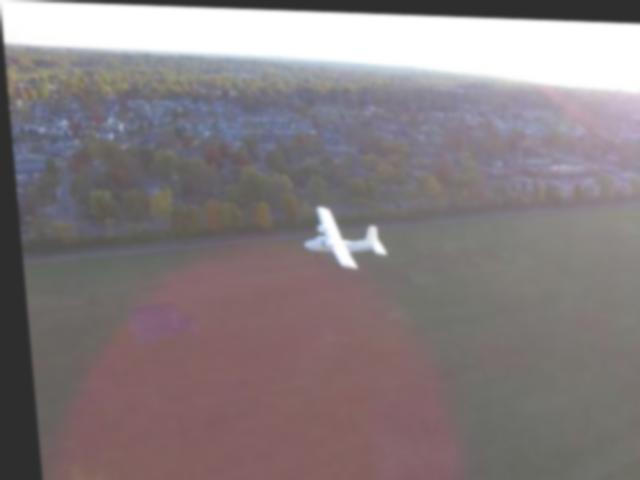uav: (297, 202, 385, 265)
